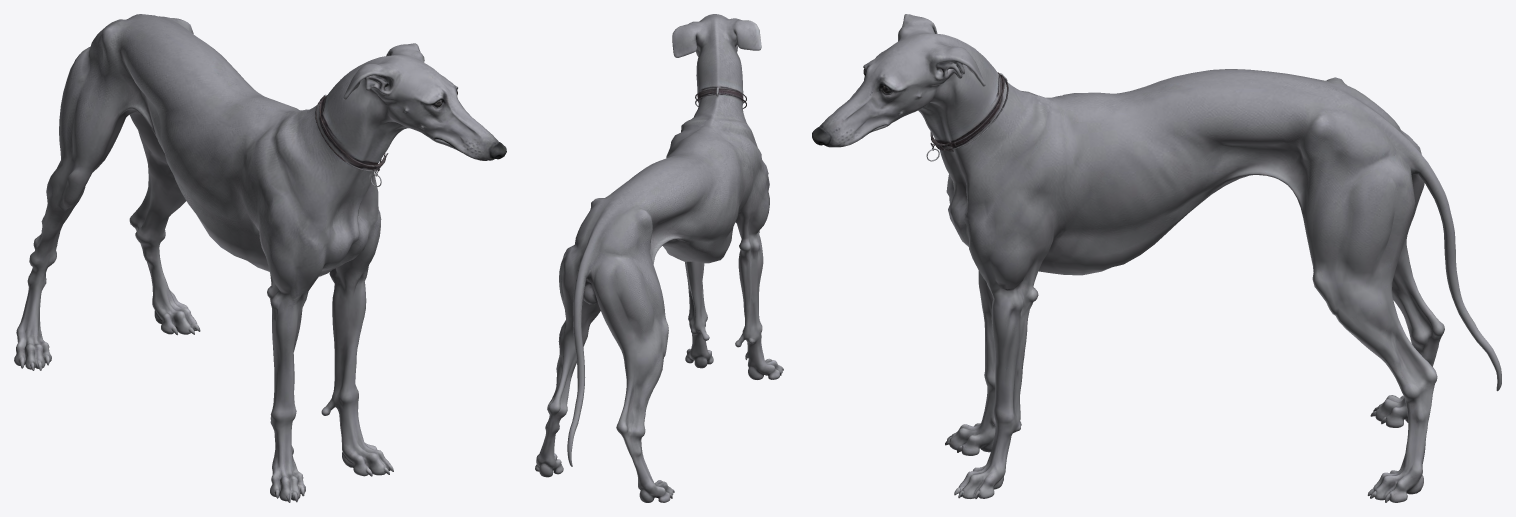
Rendered from galgo-pie.glb.
3 renders of one model, left to right at view 1: azimuth 30°, elevation 25°; view 2: azimuth 150°, elevation 25°; view 3: azimuth 270°, elevation 25°, orthographic. The views are drawn at different scales.
Parts seen in each view (by area): view 1: tripo_node_4efb01d9-e345-4312-8b5e-9d5be4799bf2; view 2: tripo_node_4efb01d9-e345-4312-8b5e-9d5be4799bf2; view 3: tripo_node_4efb01d9-e345-4312-8b5e-9d5be4799bf2.
Boxes of the visible parts, x1,y1,x2,y2 form: tripo_node_4efb01d9-e345-4312-8b5e-9d5be4799bf2: (14, 14, 506, 502); tripo_node_4efb01d9-e345-4312-8b5e-9d5be4799bf2: (535, 14, 783, 502); tripo_node_4efb01d9-e345-4312-8b5e-9d5be4799bf2: (812, 14, 1501, 502).
Bounding box in the file's own units: 0.3931 × 0.7397 × 0.9995.
1 material, 1 textured.
